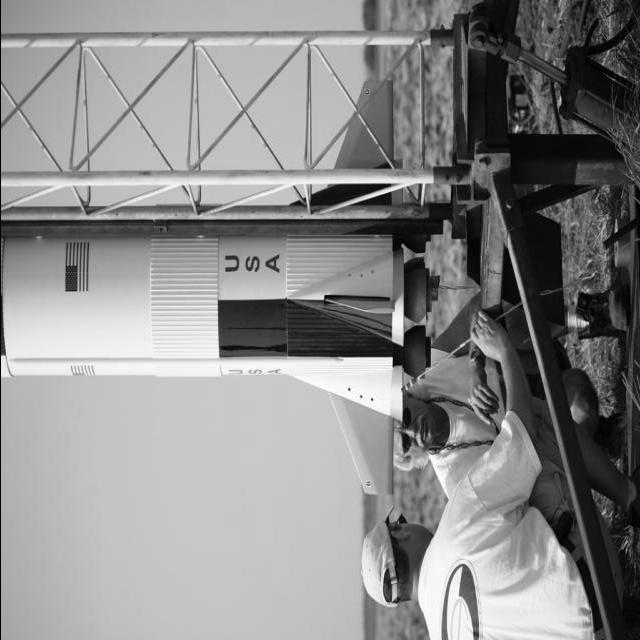missile: (0, 220, 439, 422)
